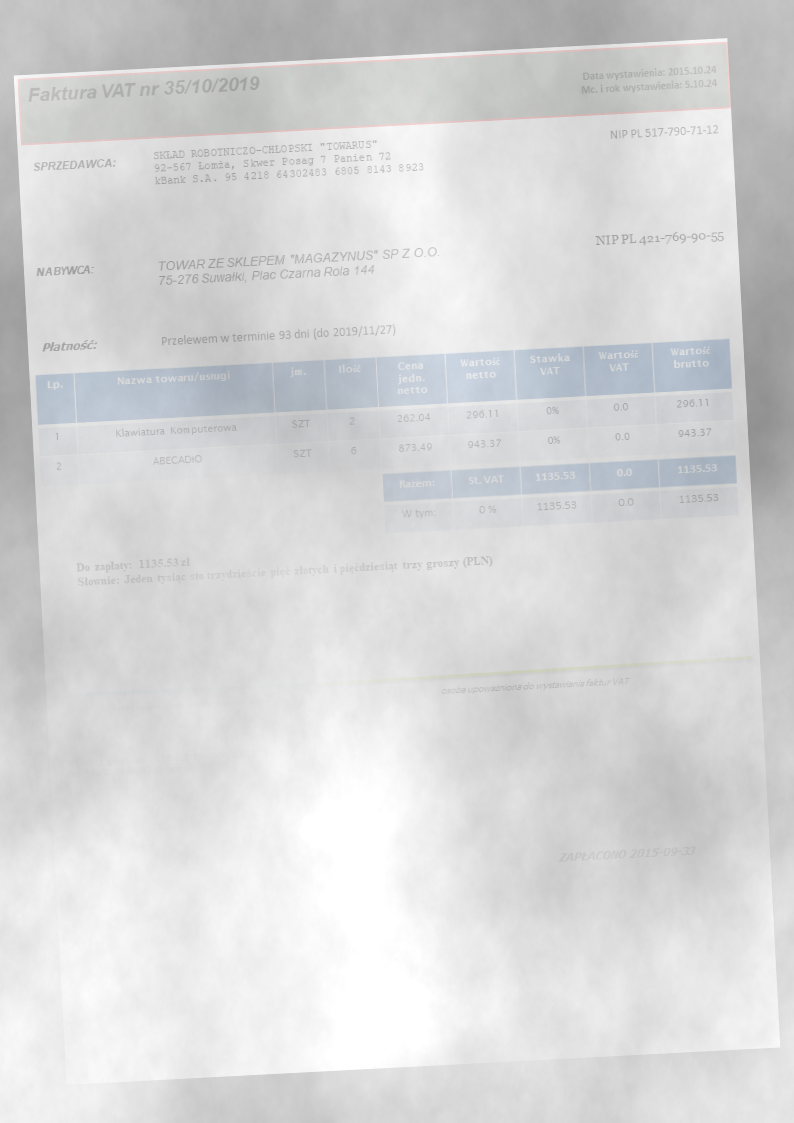Table: (34, 337, 736, 488), (381, 453, 741, 535)
TextBox: (72, 537, 497, 591), (150, 134, 425, 187), (155, 243, 446, 289), (62, 745, 300, 781), (25, 72, 263, 106), (159, 321, 396, 348), (578, 63, 720, 96), (439, 674, 634, 697), (110, 694, 287, 714), (593, 226, 726, 251), (556, 842, 697, 864), (607, 121, 721, 143), (31, 155, 118, 175), (34, 262, 95, 280), (40, 337, 99, 354)
